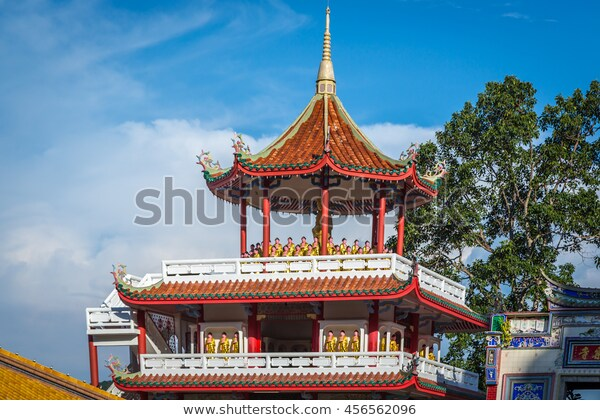Buddhist Temple: (154, 19, 402, 372)
